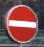No entry: (5, 6, 39, 42)
